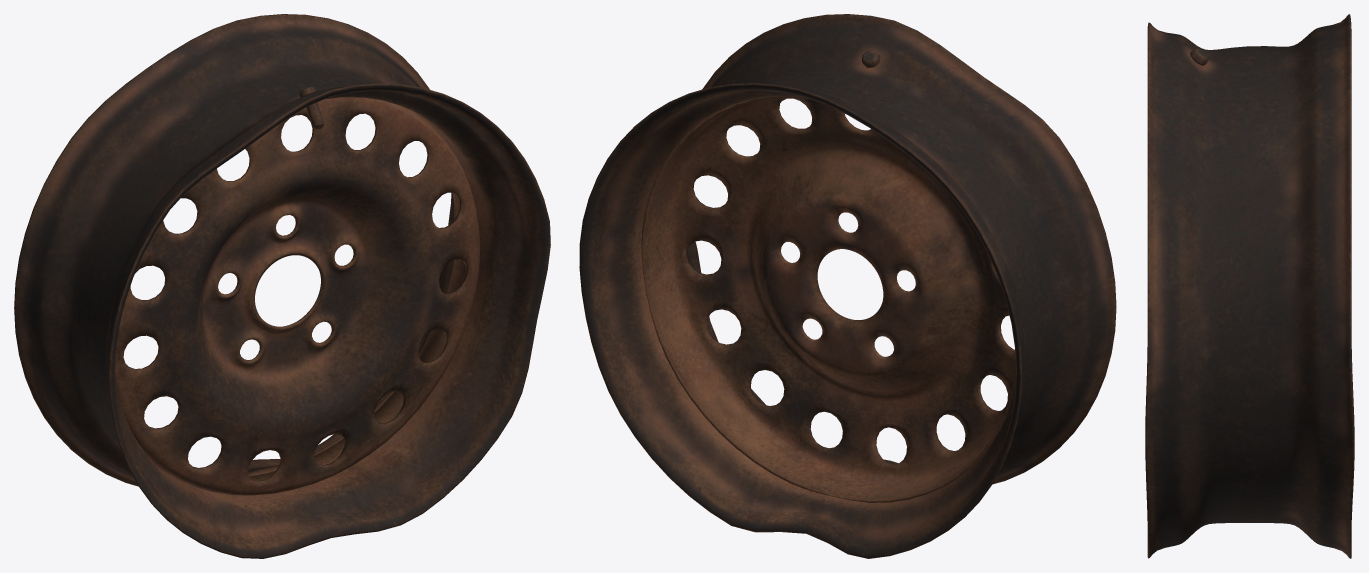
The model's file is rusted_wheel_rim_01_1k.gltf.
The picture shows the model from 3 angles, left to right: view 1: azimuth 30°, elevation 25°; view 2: azimuth 150°, elevation 25°; view 3: azimuth 270°, elevation 25°; orthographic projection. The views are drawn at different scales.
Visible parts, largest first — view 1: rusted_wheel_rim_01; view 2: rusted_wheel_rim_01; view 3: rusted_wheel_rim_01.
Part boxes in pixels (bbox=[...]): rusted_wheel_rim_01: bbox=[14, 14, 550, 558]; rusted_wheel_rim_01: bbox=[579, 14, 1116, 558]; rusted_wheel_rim_01: bbox=[1145, 14, 1354, 558].
Size of the model in its own units: 0.4029 by 0.3955 by 0.1541.
Materials: 1 (1 with a texture image).
